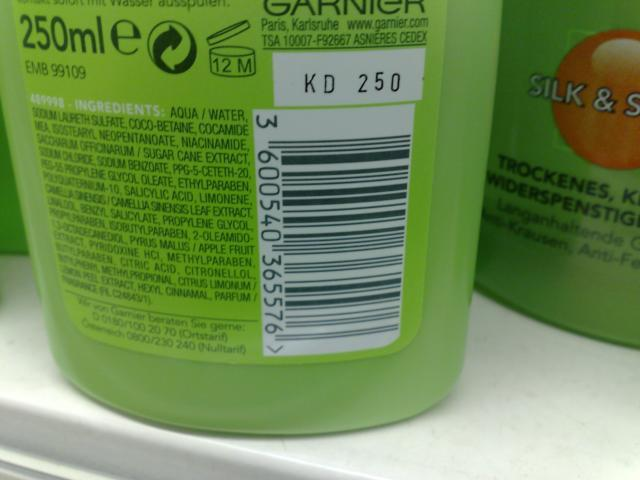Barcode: (251, 106, 416, 358)
